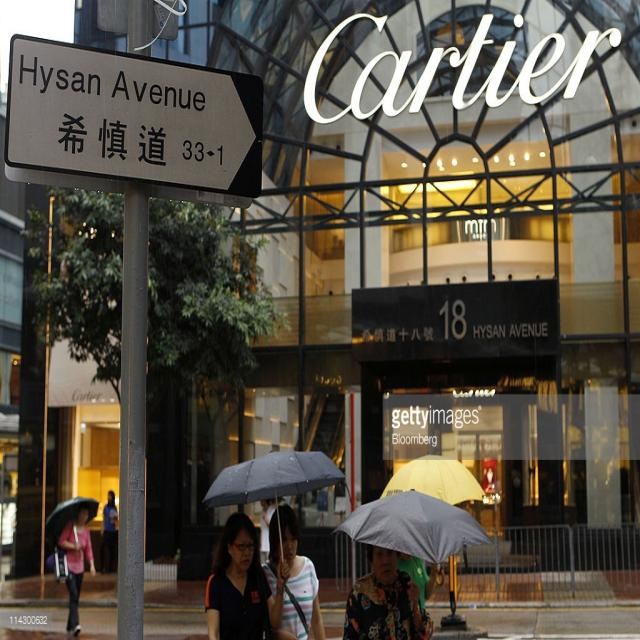body: (244, 500, 328, 639), (202, 511, 292, 639), (340, 530, 437, 639), (58, 504, 96, 636), (398, 546, 440, 613), (259, 497, 277, 568), (102, 489, 120, 532)
